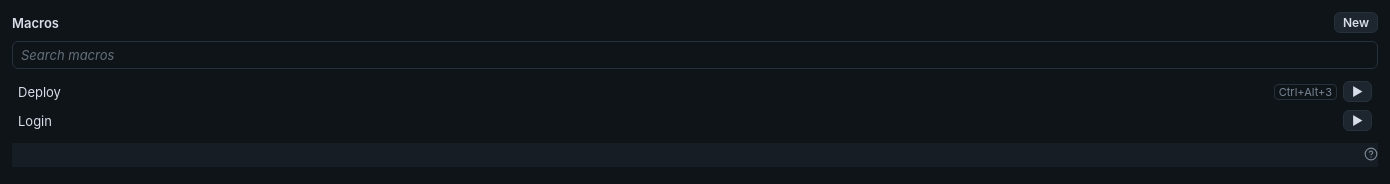
Scenario: MacrosPanel (S16.3) › lists macros with their hotkey and filters them by name
Expected: the text "Deploy" is shown, 18,84 -> 61,100
Expected: the text "Ctrl+Alt+3" is shown, 1274,84 -> 1337,100
Type "log" into the field with placeholder "Search macros" at (695, 55), box 12,41 -> 1378,69
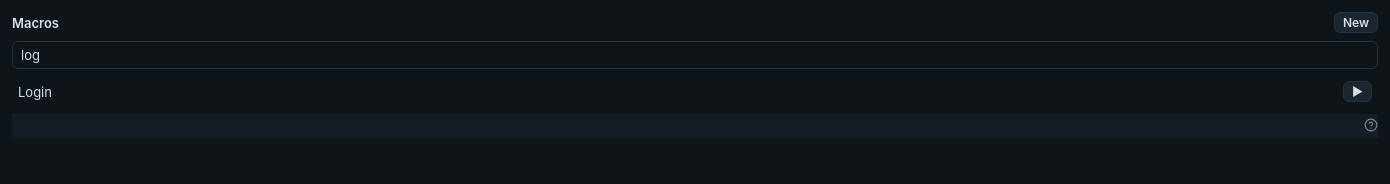
Expected: the text "Login" is shown, 18,84 -> 52,100
Now the text "Deploy" is gone
Replace the text in the field with placeholder "Search macros" with "zzz" at (695, 55), box 12,41 -> 1378,69
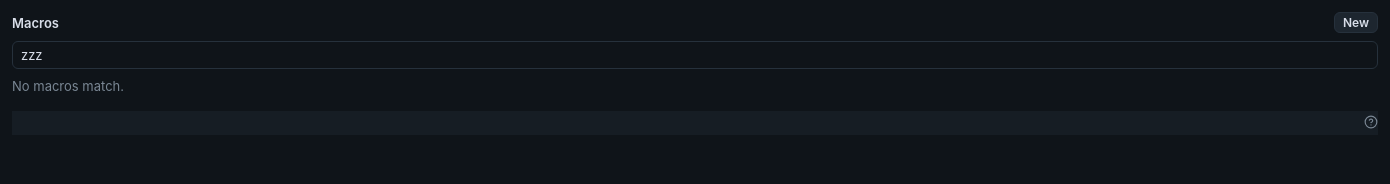
Now the text "No macros match." is shown, box 12,78 -> 124,94
